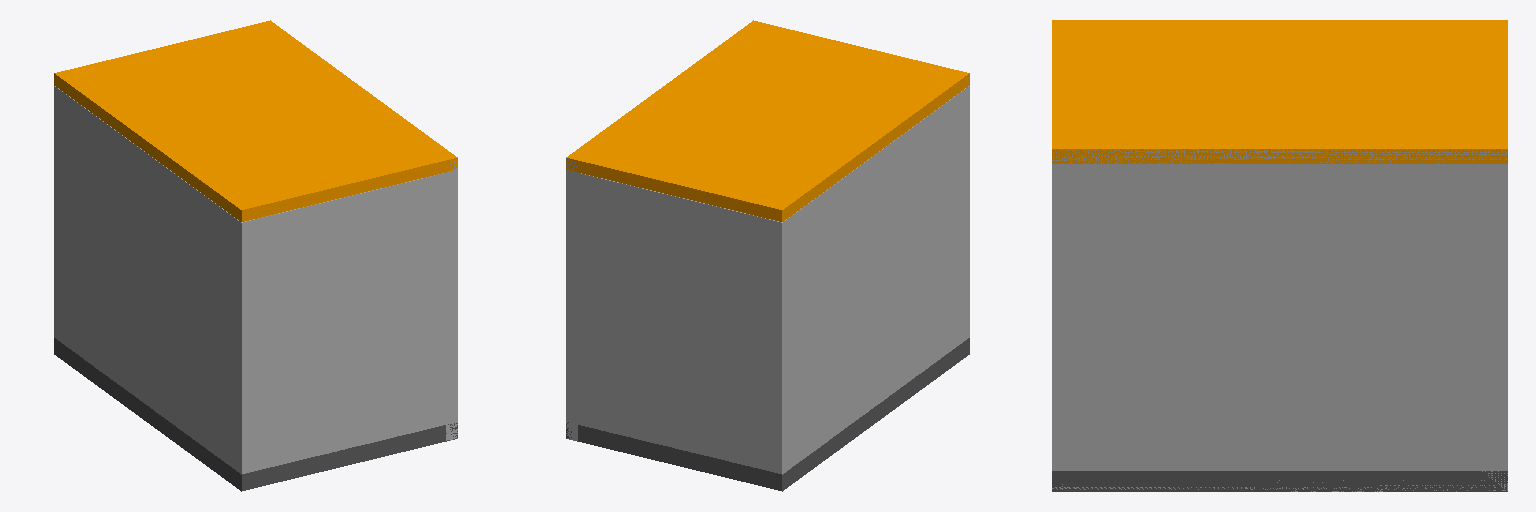
URDF robot description (coe-corner-shelf):
<?xml version="1.0"?>
<robot name="coe-corner-shelf"
       xmlns:xi="http://www.w3.org/2001/XInclude"
       xmlns:gazebo="http://playerstage.sourceforge.net/gazebo/xmlschema/#gz"
       xmlns:model="http://playerstage.sourceforge.net/gazebo/xmlschema/#model"
       xmlns:sensor="http://playerstage.sourceforge.net/gazebo/xmlschema/#sensor"
       xmlns:body="http://playerstage.sourceforge.net/gazebo/xmlschema/#body"
       xmlns:geom="http://playerstage.sourceforge.net/gazebo/xmlschema/#geom"
       xmlns:joint="http://playerstage.sourceforge.net/gazebo/xmlschema/#joint"
       xmlns:interface="http://playerstage.sourceforge.net/gazebo/xmlschema/#interface"
       xmlns:rendering="http://playerstage.sourceforge.net/gazebo/xmlschema/#rendering"
       xmlns:renderable="http://playerstage.sourceforge.net/gazebo/xmlschema/#renderable"
       xmlns:controller="http://playerstage.sourceforge.net/gazebo/xmlschema/#controller"
       xmlns:physics="http://playerstage.sourceforge.net/gazebo/xmlschema/#physics">
  <gazebo>
    <static>false</static>
  </gazebo>
  <link name="nil_link">
    <visual>
      <origin xyz="0 0 0" rpy="0 -0 0"/>
      <geometry>
        <mesh filename="model://coe-corner-shelf/meshes/nil_link_mesh.dae" scale="1 1 1" />
      </geometry>
    </visual>
    <collision>
      <origin xyz="0 0 0" rpy="0 -0 0"/>
      <geometry>
        <mesh filename="model://coe-corner-shelf/meshes/nil_link_mesh.dae" scale="1 1 1" />
      </geometry>
    </collision>
    <inertial>
      <mass value="0.001" />
      <origin xyz="0 0 0" rpy="0 -0 0"/>
      <inertia ixx="1e-09" ixy="0" ixz="0" iyy="1e-09" iyz="0" izz="1e-09"/>
    </inertial>
  </link>
  <gazebo reference="nil_link">
    <mu1>0.9</mu1>
    <mu2>0.9</mu2>
  </gazebo>
</robot>

--- Facts derived from the render (not from the file) ---
3 views of the same robot in one strip: view 1: azimuth 30°, elevation 25°; view 2: azimuth 150°, elevation 25°; view 3: azimuth 270°, elevation 25° (orthographic).
Model coe-corner-shelf with 1 links and 0 joints (none), rooted at nil_link, posed all joints at 0.
Visible links, largest first — view 1: nil_link; view 2: nil_link; view 3: nil_link.
Boxes of the visible links, box(x1,y1,x2,y2) form: nil_link: box(54, 20, 457, 491); nil_link: box(566, 20, 969, 491); nil_link: box(1052, 20, 1507, 491).
Bounding box of the posed robot: 0.6 × 0.9 × 0.7455 m (x, y, z).
1 mesh visuals loaded from 1 distinct referenced files (1 Collada DAE).
